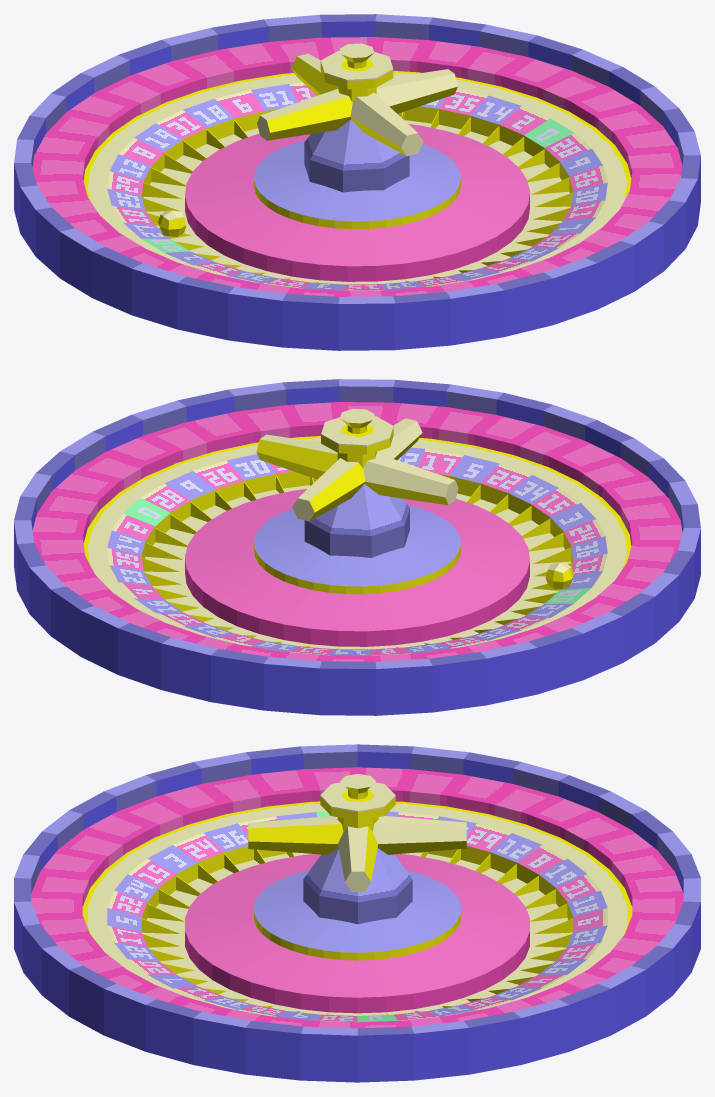
The model's file is rg_roulette.gltf.
3 views of the same model, one above another, from view 1: azimuth 30°, elevation 25°; view 2: azimuth 150°, elevation 25°; view 3: azimuth 270°, elevation 25° (orthographic).
Parts seen in each view (by area): view 1: rim, wheel, center, ball; view 2: rim, wheel, center, ball; view 3: rim, wheel, center.
Part boxes in pixels (x1,y1,x2,y2): rim: [14, 14, 700, 350]; wheel: [83, 71, 631, 290]; center: [257, 43, 457, 192]; ball: [158, 210, 186, 236]; rim: [14, 379, 700, 715]; wheel: [83, 436, 631, 655]; center: [256, 409, 458, 557]; ball: [545, 562, 573, 589]; rim: [14, 744, 700, 1082]; wheel: [82, 801, 632, 1022]; center: [248, 774, 466, 924].
Size of the model in its own units: 39.94 by 10.24 by 39.8.
Materials: 2 (2 with a texture image).
